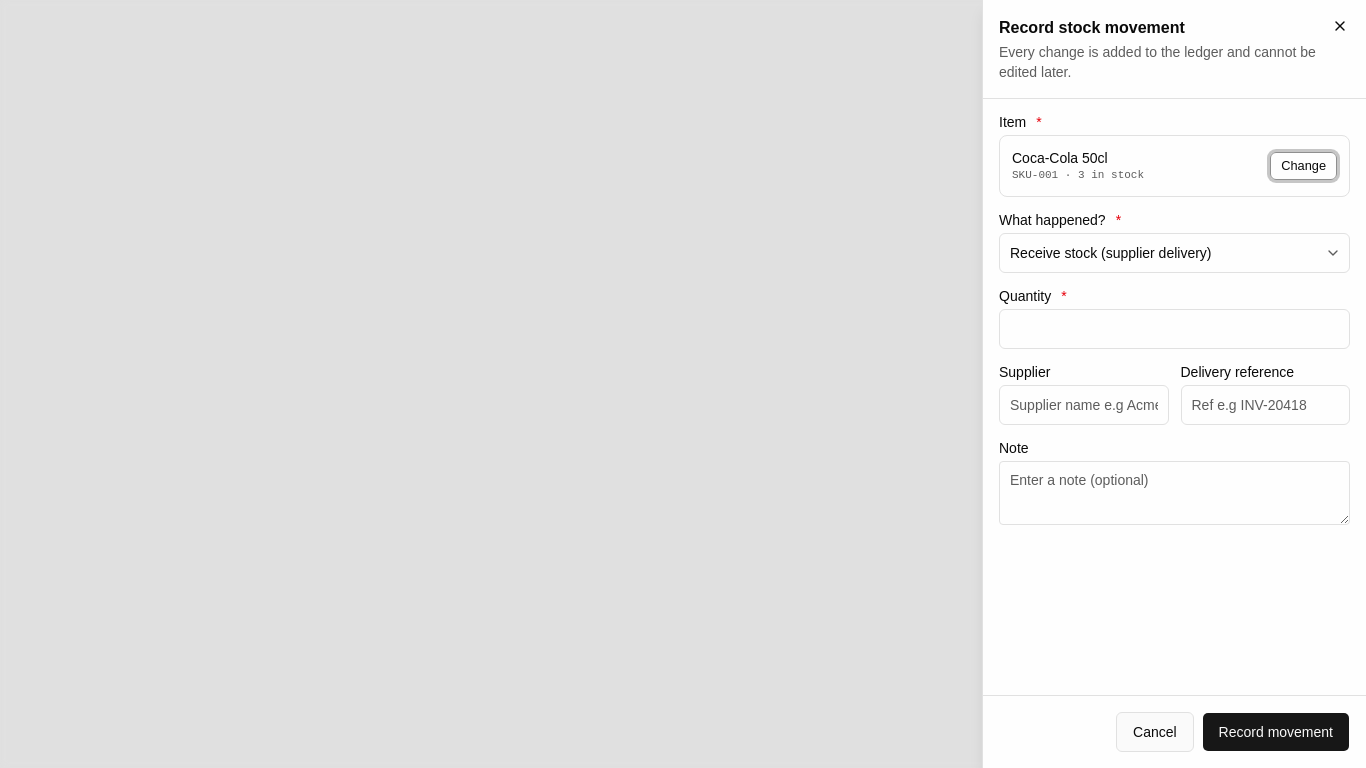
RecordMovementDrawer › blocks an overdraw and previews the resulting stock
Expected: the text "SKU-001 · 3 in stock" is shown, [1012,168,1144,184]
Type "5" into the number field labelled "Quantity" at [1174, 329], box [1000,309,1349,349]
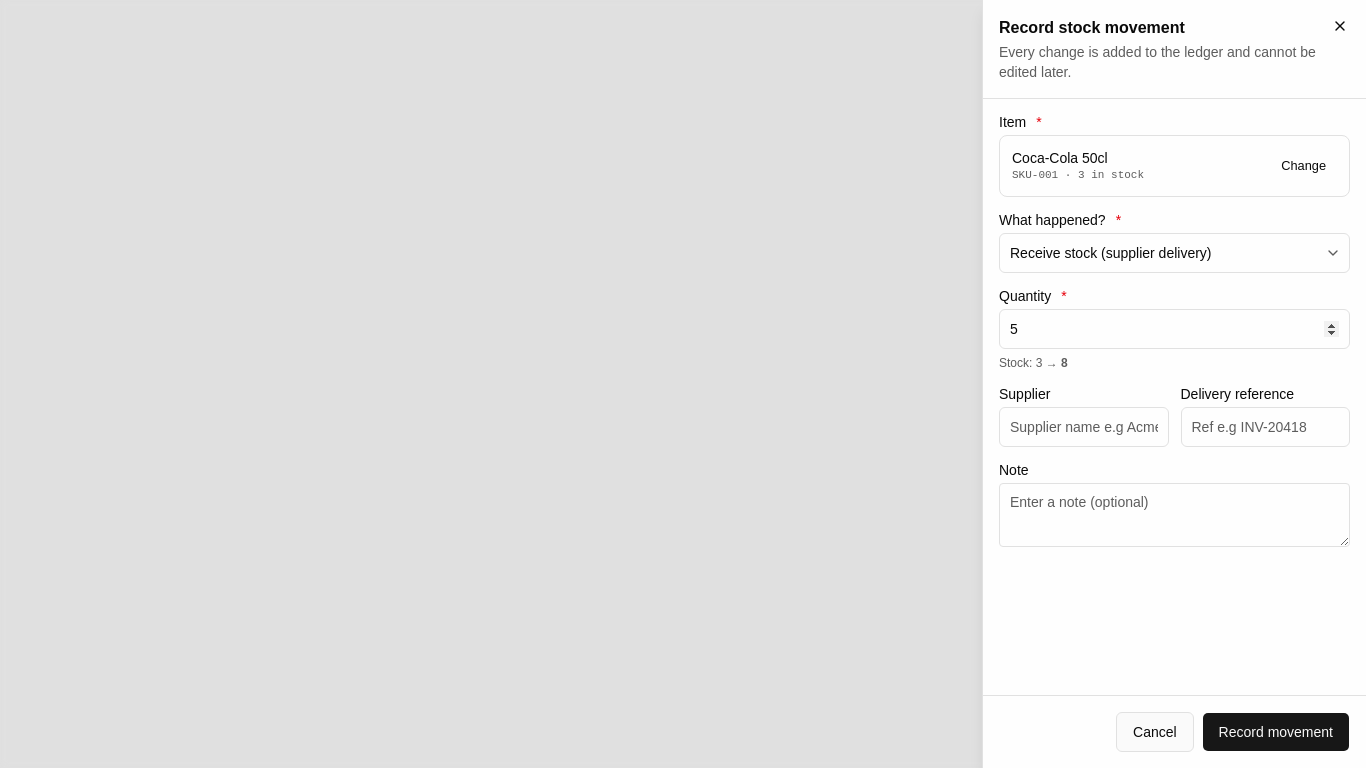
Click the dropdown named "What happened?" at [1174, 253], box [999,233,1350,273]
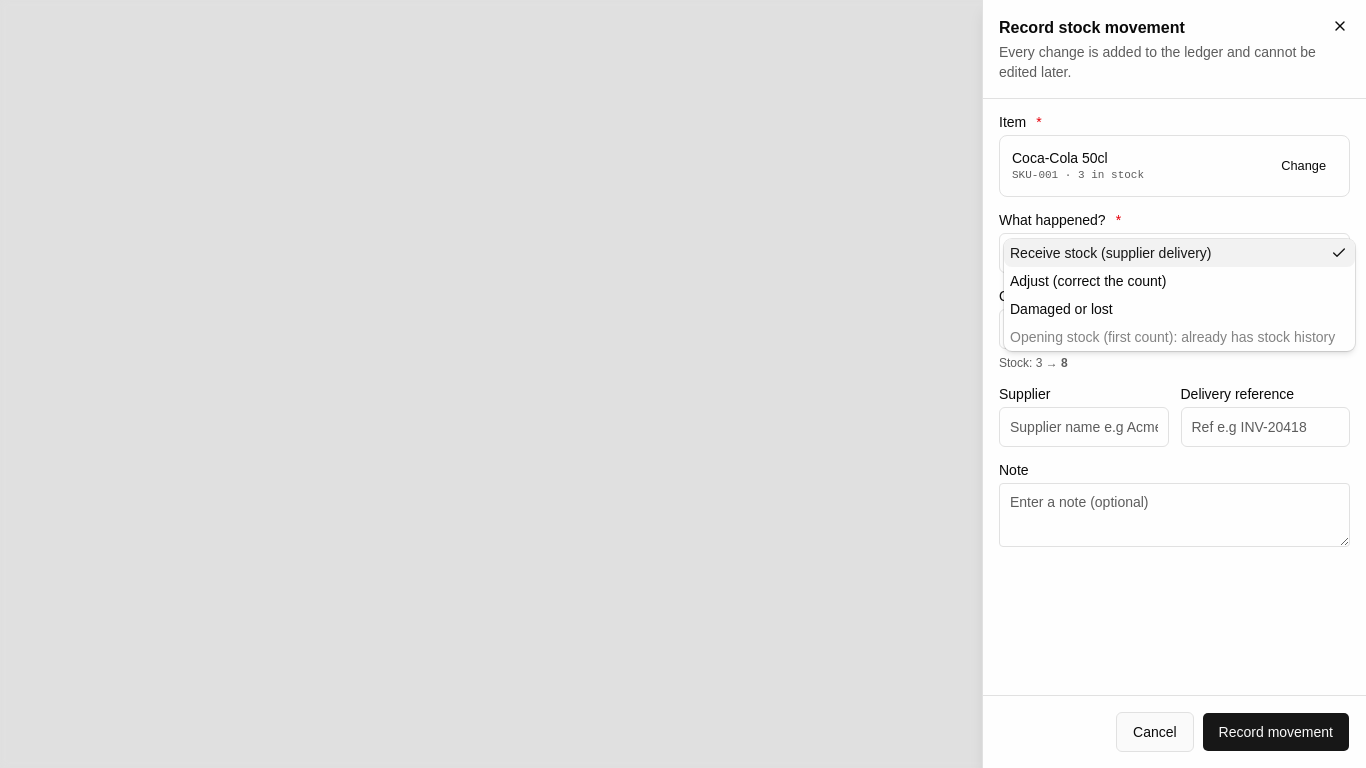
Click the option "Damaged or lost" at [1061, 309], box [1010,301,1113,317]
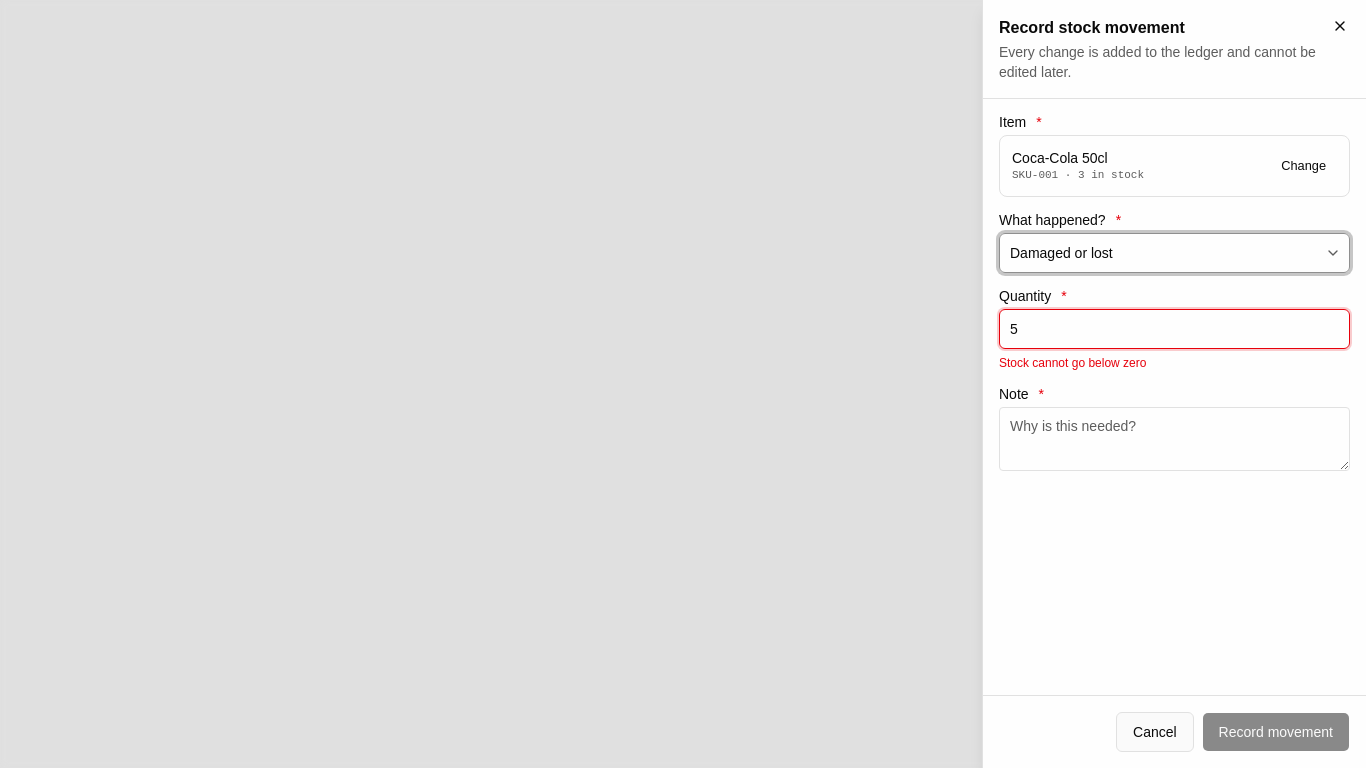
Expected: the text "Stock cannot go below zero" is shown, [999,356,1146,370]
Expected: the button "Record movement" is disabled, [1202,712,1350,752]
